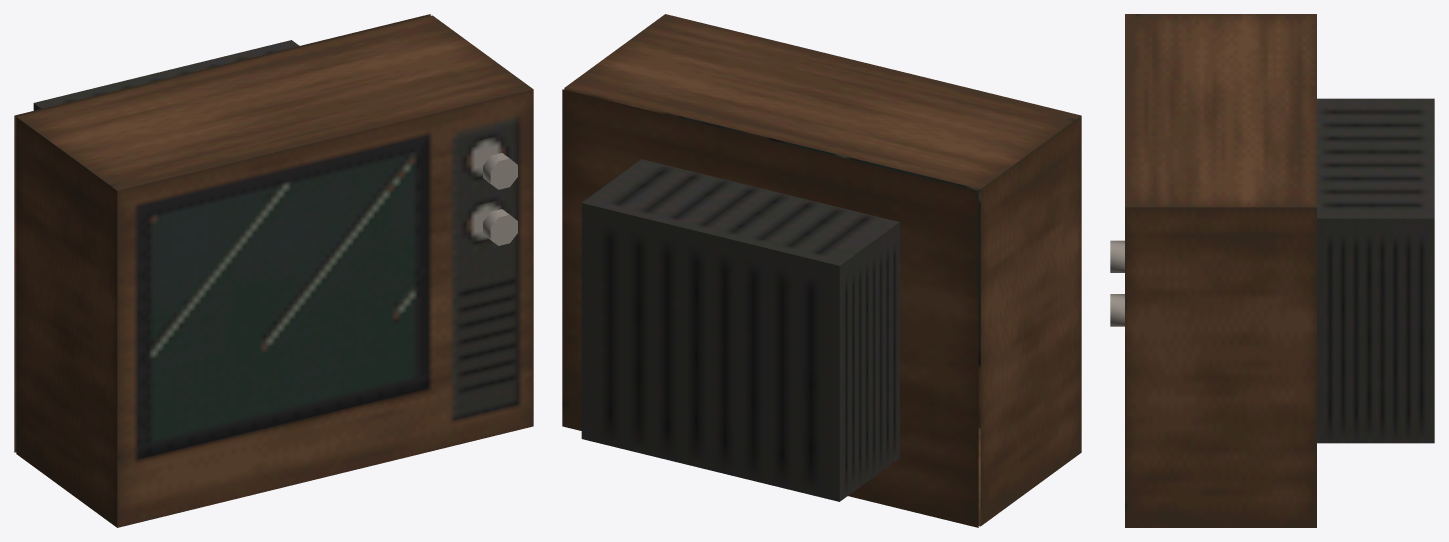
Rendered from tv_crt.obj.
3 views of the same model, side by side, from view 1: azimuth 30°, elevation 25°; view 2: azimuth 150°, elevation 25°; view 3: azimuth 270°, elevation 25° (orthographic). The views are drawn at different scales.
Visible parts, largest first — view 1: tv_crt; view 2: tv_crt; view 3: tv_crt.
Part boxes in pixels (x1,y1,x2,y2): tv_crt: [14, 14, 533, 527]; tv_crt: [562, 14, 1081, 527]; tv_crt: [1110, 14, 1434, 527].
Size of the model in its own units: 0.62 by 0.48 by 0.44.
1 material, 1 textured.
